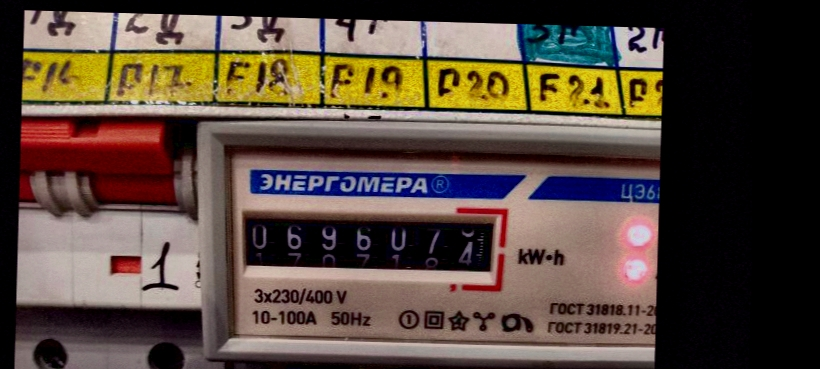0: (386, 223, 406, 254), (247, 223, 266, 251)
4: (455, 240, 471, 269)
6: (351, 224, 371, 254), (282, 223, 302, 251)
7: (422, 226, 440, 257)
9: (317, 224, 335, 253)
screen: (224, 195, 511, 292)
